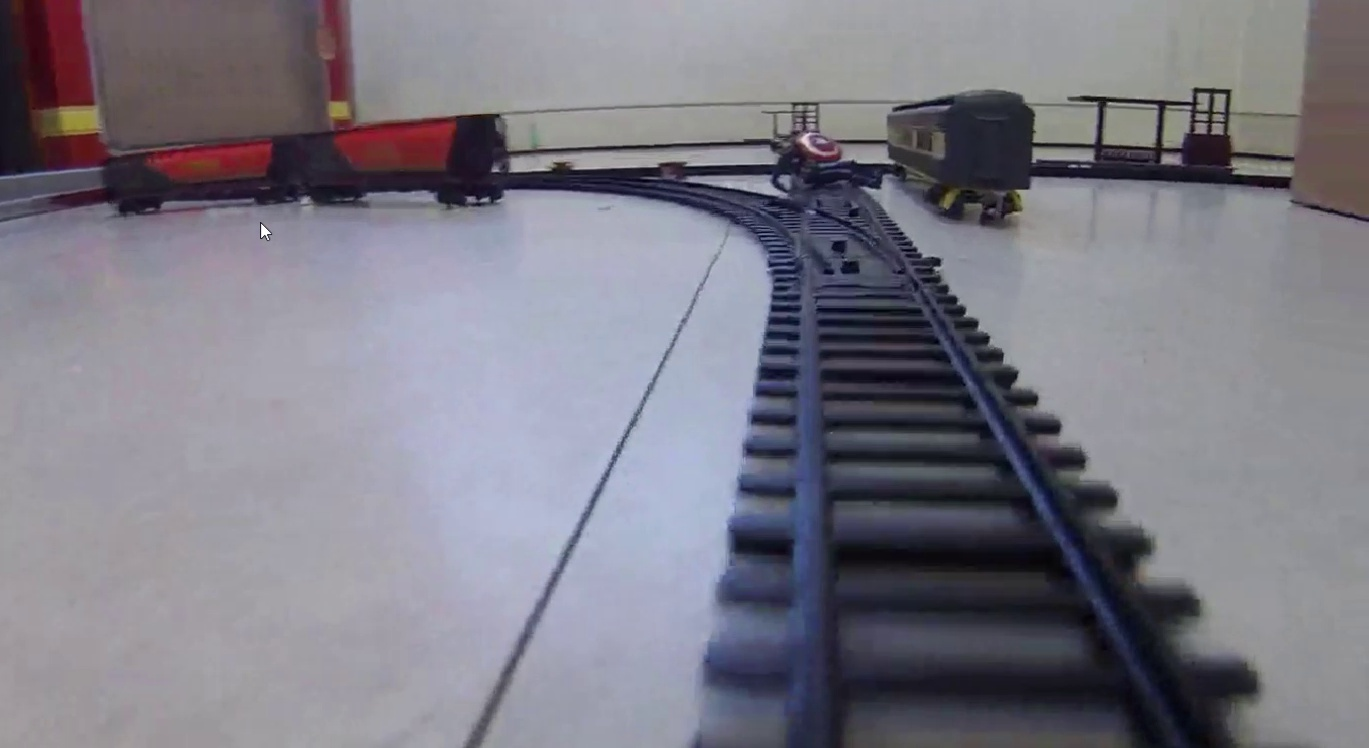people: (770, 132, 890, 189)
